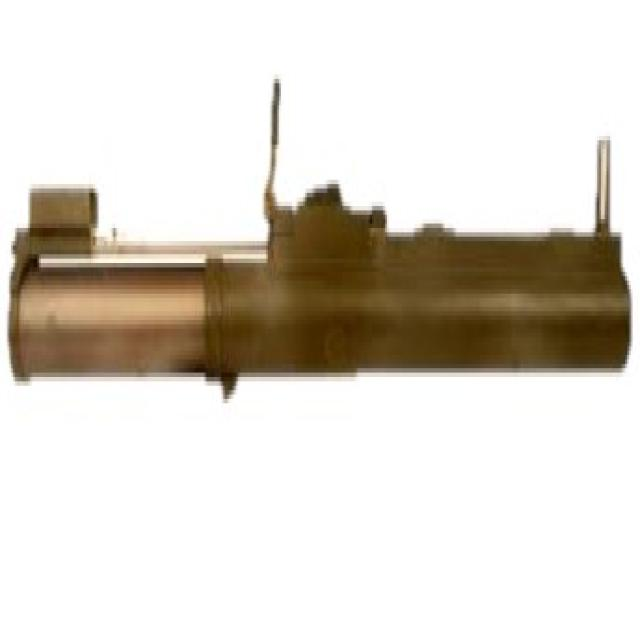bazooka: (5, 62, 637, 421)
